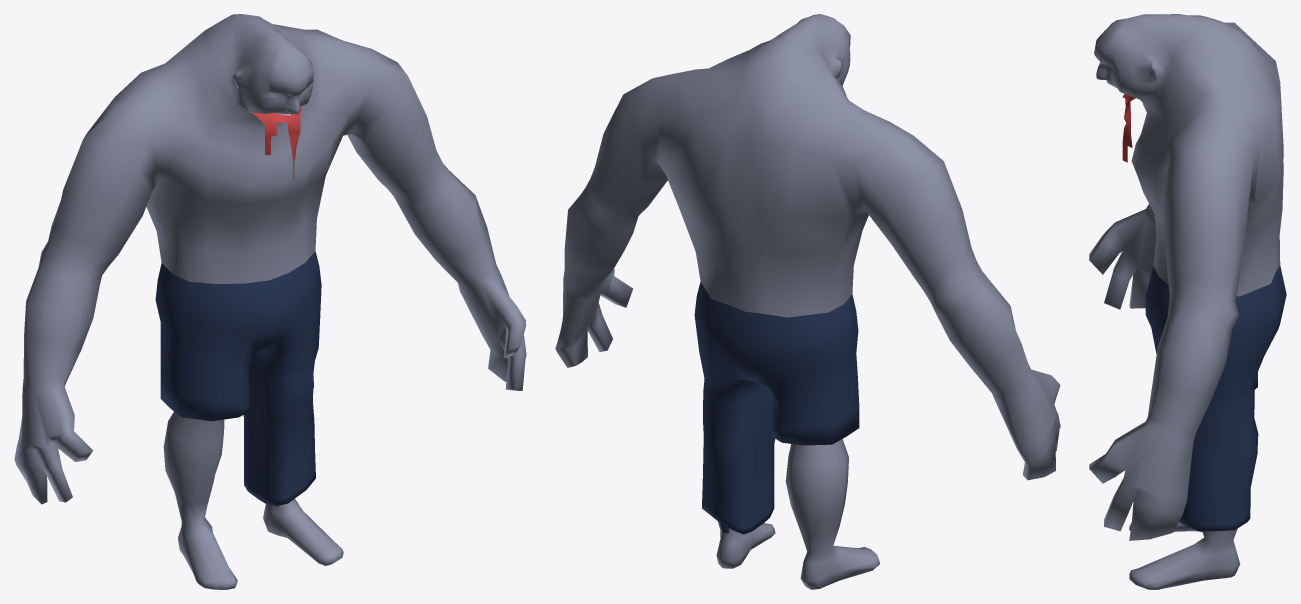
File: big_zombie.FBX
The picture shows the model from 3 angles, left to right: view 1: azimuth 30°, elevation 25°; view 2: azimuth 150°, elevation 25°; view 3: azimuth 270°, elevation 25°; orthographic projection.
Parts seen in each view (by area): view 1: Object007; view 2: Object007; view 3: Object007.
Part boxes in pixels (x1=…): Object007: x1=14, y1=14, x2=526, y2=589; Object007: x1=555, y1=14, x2=1060, y2=589; Object007: x1=1089, y1=14, x2=1286, y2=589.
Size of the model in its own units: 133 by 141 by 46.51.
Materials: 1 (1 with a texture image).
